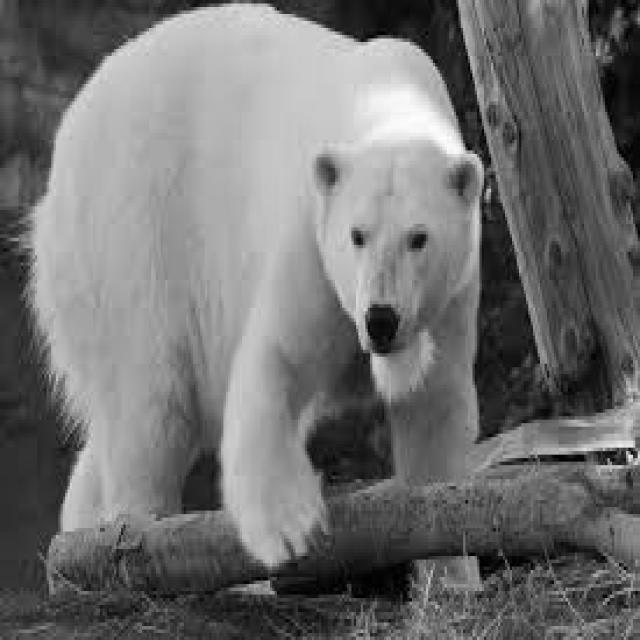Bear: (47, 43, 506, 529)
